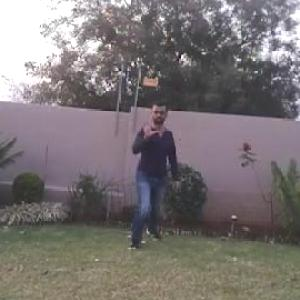follow_hand: (139, 114, 160, 142)
